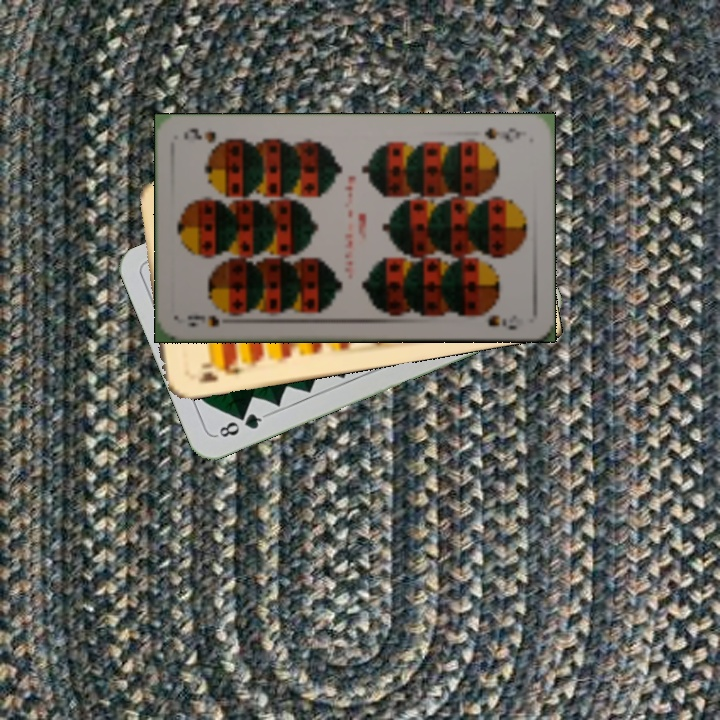E10: (193, 356, 248, 385)
G8: (212, 409, 269, 440)
S9: (480, 123, 528, 145), (183, 311, 222, 329)
